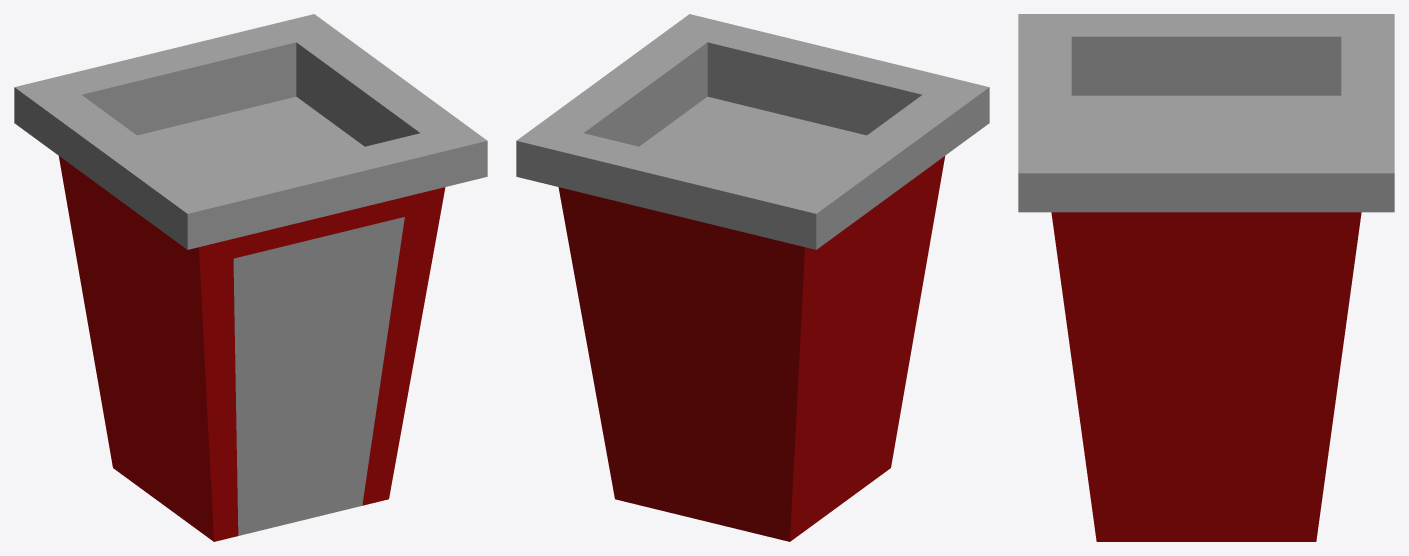
The model's file is LixeiraPlastico.fbx.
The picture shows the model from 3 angles, left to right: view 1: azimuth 30°, elevation 25°; view 2: azimuth 150°, elevation 25°; view 3: azimuth 270°, elevation 25°; orthographic projection. The views are drawn at different scales.
Parts seen in each view (by area): view 1: lixeira_papel; view 2: lixeira_papel; view 3: lixeira_papel.
Boxes of the visible parts, x1,y1,x2,y2 form: lixeira_papel: [14, 14, 487, 541]; lixeira_papel: [516, 14, 989, 541]; lixeira_papel: [1018, 14, 1394, 541].
Size of the model in its own units: 11.51 by 13.55 by 11.51.
